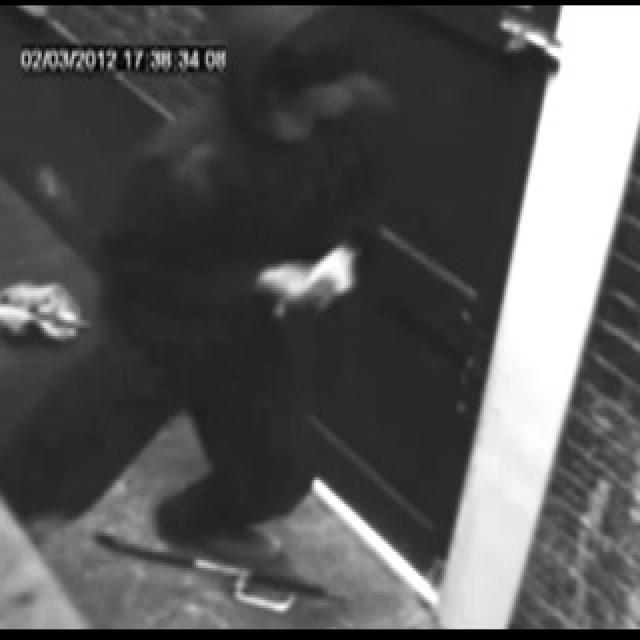thief: (192, 0, 386, 193)
